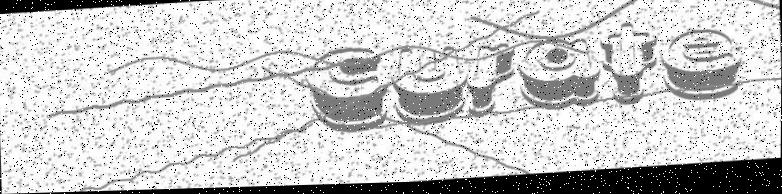a: (517, 39, 602, 114)
c: (305, 47, 389, 136)
e: (660, 31, 742, 106)
r: (467, 46, 518, 121)
t: (599, 24, 660, 109)
u: (391, 45, 471, 129)
